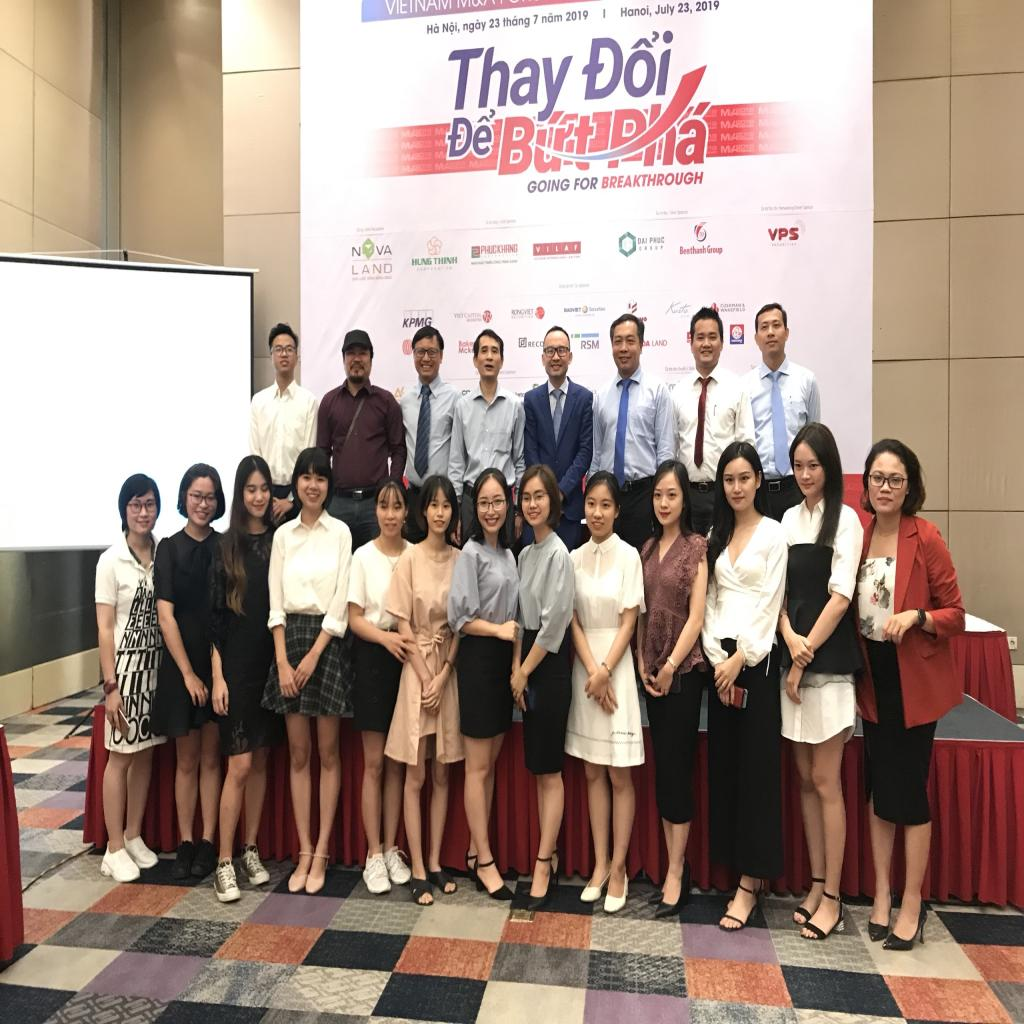text: (440, 40, 579, 122), (607, 100, 714, 168), (578, 27, 676, 101), (498, 107, 598, 177), (602, 171, 704, 190), (528, 178, 570, 194), (352, 262, 392, 276), (620, 4, 654, 19), (768, 227, 799, 242), (480, 244, 518, 256), (502, 13, 530, 29), (665, 300, 694, 315), (463, 18, 487, 35), (125, 717, 139, 746), (402, 316, 433, 329), (122, 649, 138, 673), (536, 244, 578, 253), (139, 714, 151, 743), (540, 10, 564, 24), (574, 176, 598, 190), (565, 9, 589, 22), (680, 244, 706, 256), (654, 3, 676, 17), (442, 21, 462, 36), (695, 0, 720, 12), (140, 691, 152, 716), (128, 694, 140, 718), (128, 630, 142, 648), (136, 648, 147, 670), (677, 0, 693, 15), (115, 650, 125, 674), (119, 631, 132, 649), (433, 256, 458, 265), (416, 266, 452, 272), (147, 646, 156, 670), (720, 120, 740, 130), (720, 108, 740, 118), (412, 257, 432, 267), (426, 22, 440, 36), (454, 312, 482, 319), (720, 144, 739, 154), (138, 630, 149, 647), (120, 674, 128, 697), (720, 132, 738, 142), (581, 340, 599, 350), (707, 245, 723, 256), (132, 672, 140, 694), (639, 245, 663, 252), (156, 646, 164, 667), (511, 308, 534, 315), (402, 152, 418, 162), (376, 245, 392, 255), (435, 162, 452, 171), (470, 160, 487, 169), (126, 615, 136, 630), (134, 614, 144, 629), (402, 165, 418, 174), (736, 106, 754, 114), (149, 628, 157, 646), (401, 130, 418, 138), (736, 131, 755, 138), (489, 18, 500, 30), (720, 302, 742, 308), (402, 142, 418, 150), (649, 236, 665, 244), (150, 612, 158, 628), (736, 119, 754, 126), (736, 144, 754, 151), (588, 306, 606, 313), (143, 613, 151, 628), (157, 628, 164, 645), (458, 340, 474, 347), (528, 341, 544, 348), (145, 598, 152, 614), (138, 600, 146, 614), (758, 106, 769, 116), (146, 670, 151, 692), (779, 205, 794, 212), (720, 308, 746, 312), (131, 601, 139, 614), (564, 307, 581, 313), (771, 243, 796, 247), (758, 119, 769, 128), (352, 246, 361, 257), (458, 347, 472, 354), (652, 340, 668, 346), (140, 587, 148, 599), (134, 588, 142, 600), (434, 139, 444, 148), (434, 127, 444, 136), (758, 132, 768, 141), (758, 144, 769, 152), (434, 151, 444, 159), (462, 389, 472, 397), (803, 205, 814, 212), (677, 366, 688, 373), (575, 283, 590, 288), (533, 13, 539, 25), (676, 210, 688, 216), (638, 237, 647, 245), (708, 133, 718, 140), (708, 146, 718, 152), (492, 259, 502, 265), (708, 122, 717, 128), (708, 108, 717, 114), (794, 204, 803, 210), (470, 260, 478, 266), (477, 260, 485, 266), (502, 259, 510, 265), (639, 316, 647, 322), (517, 392, 525, 398), (139, 579, 144, 588), (670, 210, 677, 216), (484, 260, 494, 264), (510, 259, 518, 264), (699, 231, 705, 237), (664, 366, 670, 372), (672, 366, 678, 372), (689, 366, 695, 372), (659, 210, 664, 216), (769, 206, 774, 212), (646, 340, 650, 347), (655, 211, 660, 216), (760, 206, 765, 211), (773, 206, 778, 211), (664, 210, 668, 216), (669, 367, 673, 373), (765, 207, 769, 212), (742, 303, 745, 307)
